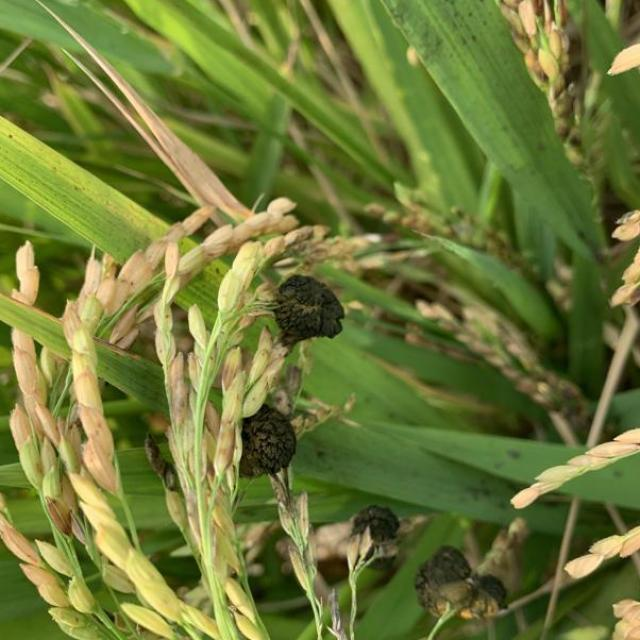Leaf_Scald: (412, 542, 512, 622), (268, 272, 346, 346), (235, 402, 299, 478), (348, 502, 406, 552)
